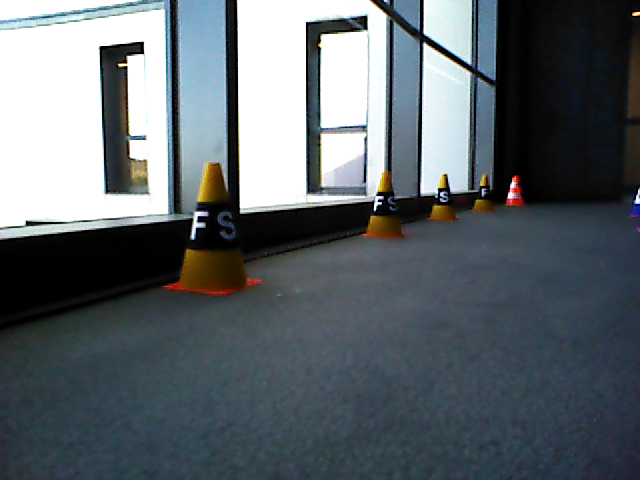orangeconesmall: (507, 176, 526, 206)
yellowcone: (181, 163, 246, 285), (368, 172, 403, 232), (432, 175, 456, 215), (475, 174, 494, 208)
